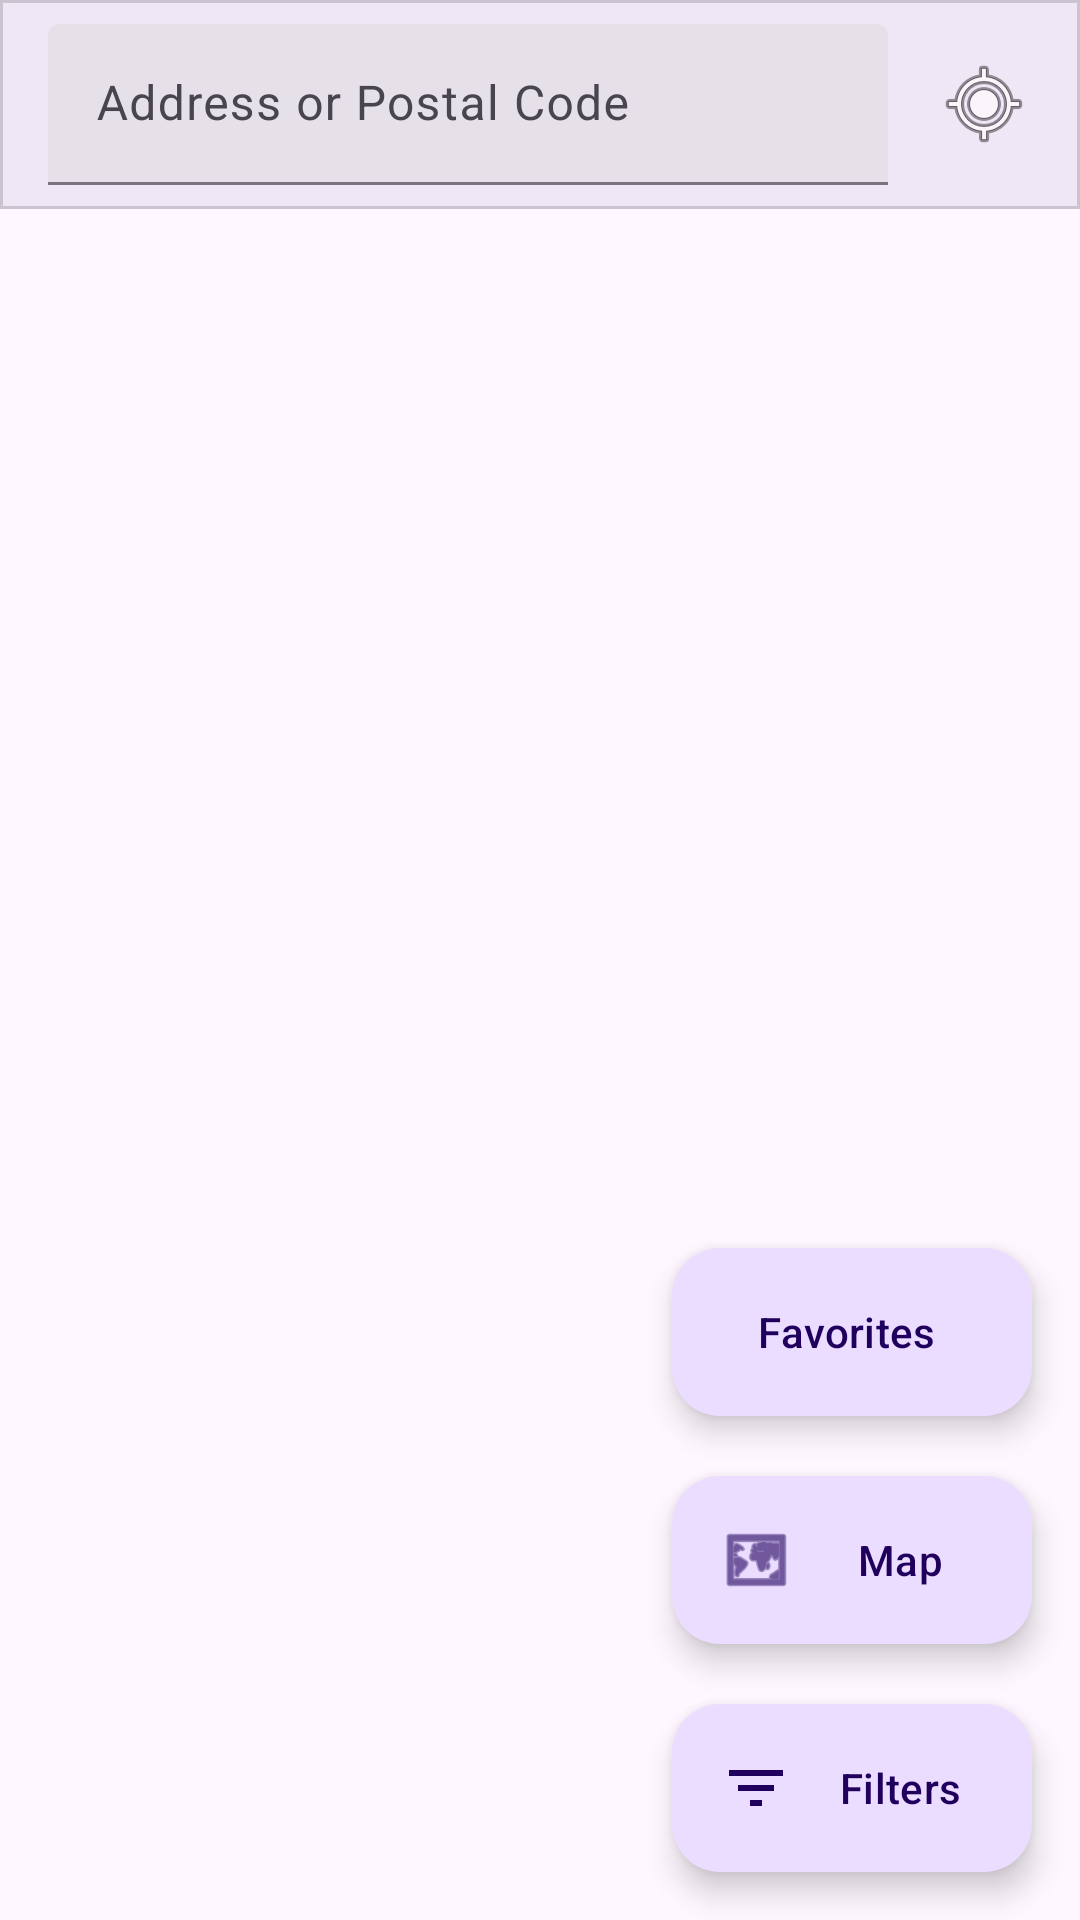

Screen size 1080w x 1920h. Icon name, then its center in pixels as [x,y]:
Use my location: [984,104]
